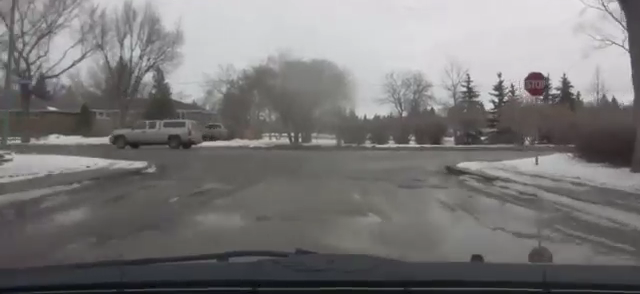car: (108, 120, 199, 150)
